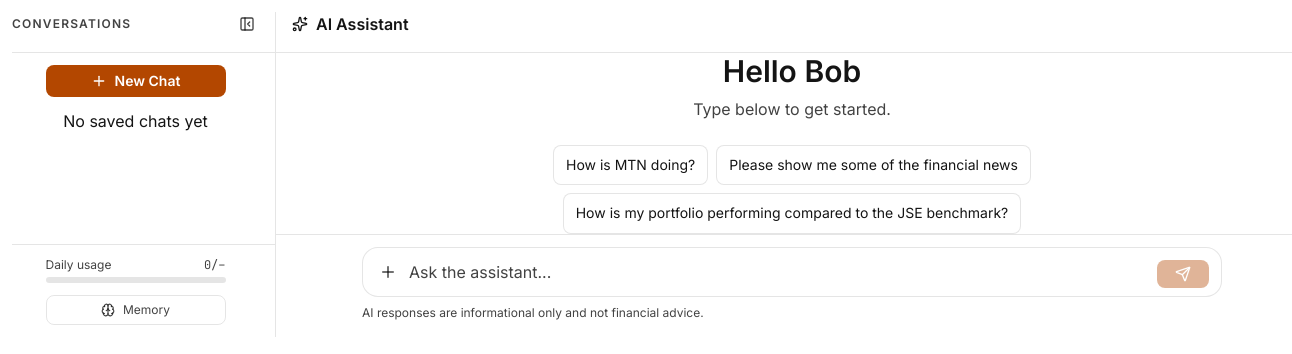
it: AIChat › when the user sends a message › the send button gets enabled when a user types a letter into the text box.
Expected: the button named "send" is disabled, [1157,260,1209,288]
In the text box with placeholder "Ask the assistant...": [779, 272] box [409,256,1149,288], type "hello"
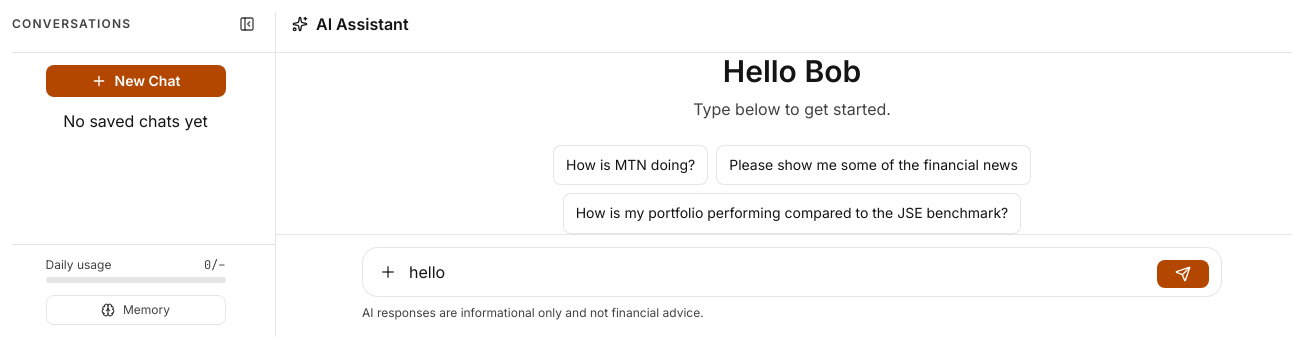
Expected: the button named "send" is enabled, [1157,260,1209,288]
